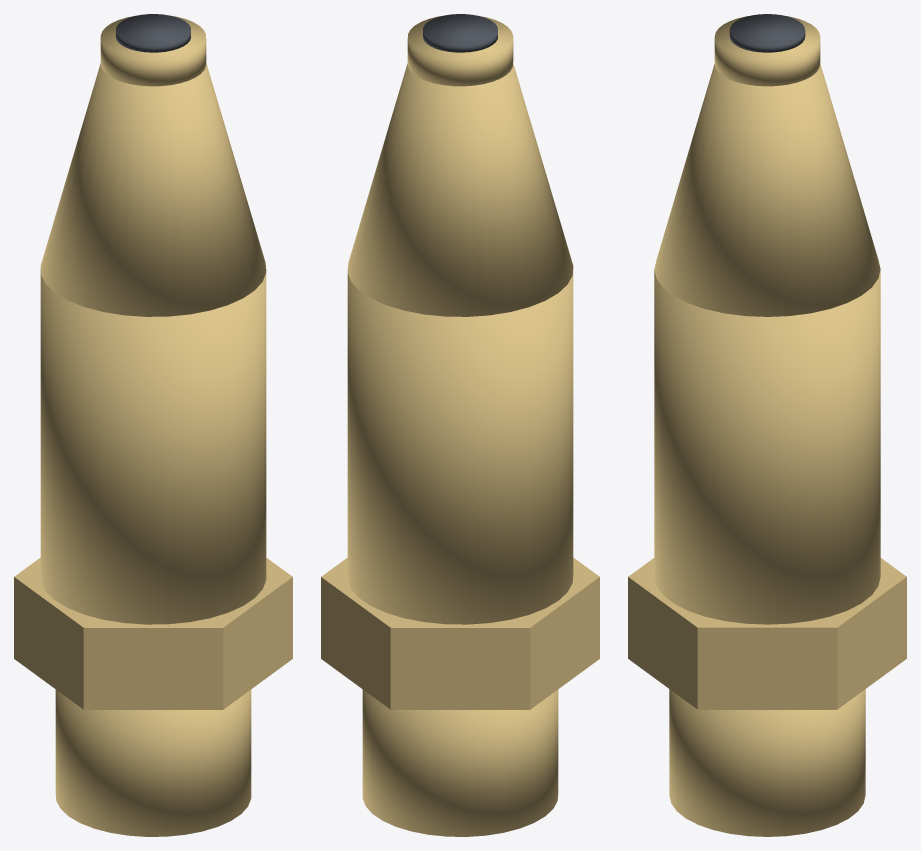
Rendered from nozzle-jet.glb.
The picture shows the model from 3 angles, left to right: view 1: azimuth 30°, elevation 25°; view 2: azimuth 150°, elevation 25°; view 3: azimuth 270°, elevation 25°; orthographic projection.
Visible parts, largest first — view 1: Прямоструйная; view 2: Прямоструйная; view 3: Прямоструйная.
Part boxes in pixels (box(x1,y1,x2,y2)): Прямоструйная: box(14, 14, 292, 836); Прямоструйная: box(321, 14, 599, 836); Прямоструйная: box(628, 14, 906, 836).
Size of the model in its own units: 0.032 by 0.112 by 0.037.
